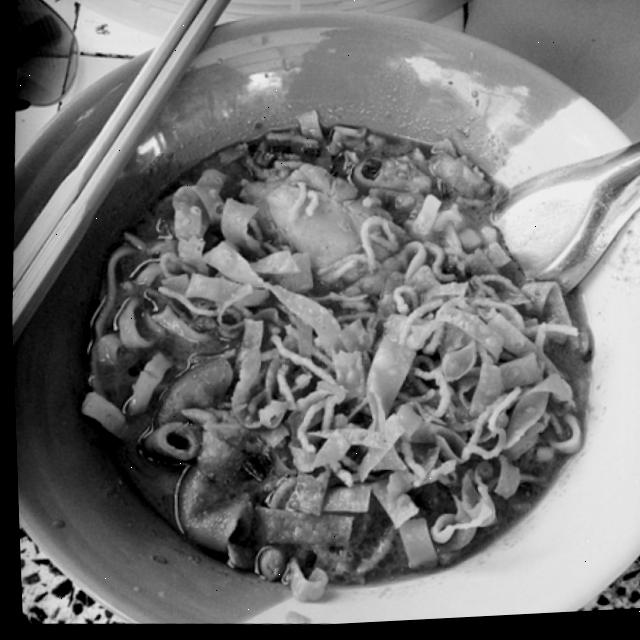面条主食: (19, 19, 640, 639)
